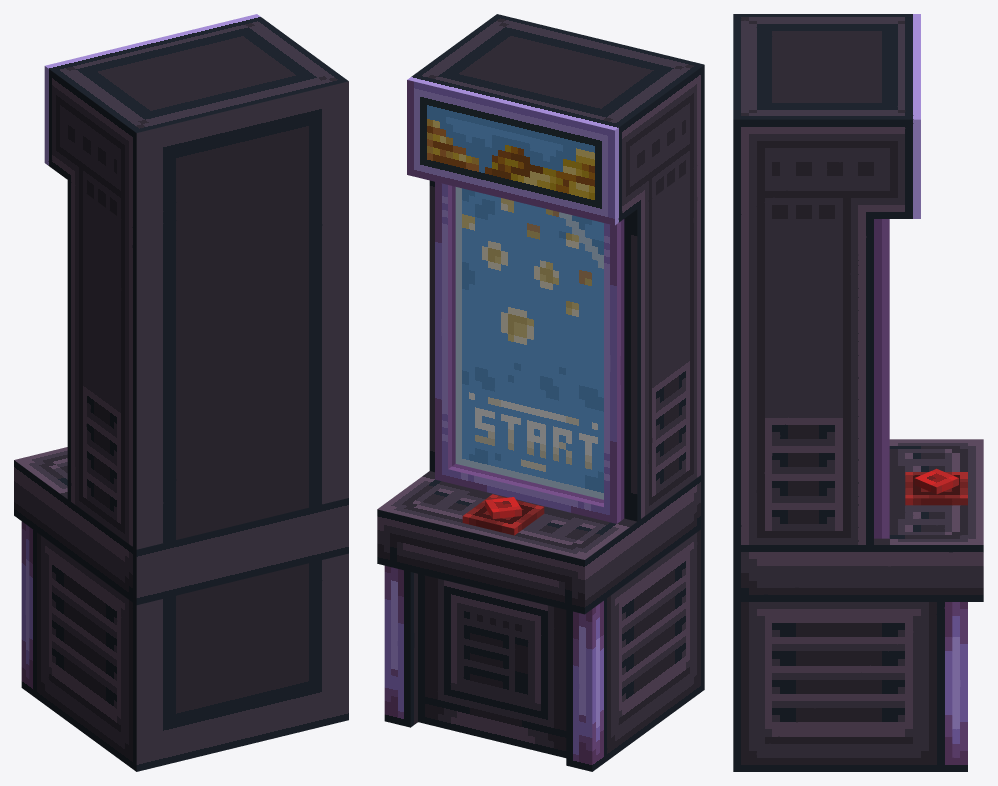
File: game_bigwin.gltf
3 renders of one model, left to right at view 1: azimuth 30°, elevation 25°; view 2: azimuth 150°, elevation 25°; view 3: azimuth 270°, elevation 25°, orthographic. The views are drawn at different scales.
Parts seen in each view (by area): view 1: cube (×5); view 2: cube (×11); view 3: cube (×8).
Part boxes in pixels (x1=…): cube (×5): x1=14, y1=14, x2=348, y2=771; cube (×11): x1=377, y1=14, x2=704, y2=771; cube (×8): x1=733, y1=14, x2=983, y2=771.
Size of the model in its own units: 1 by 2.88 by 1.
1 material, 1 textured.
